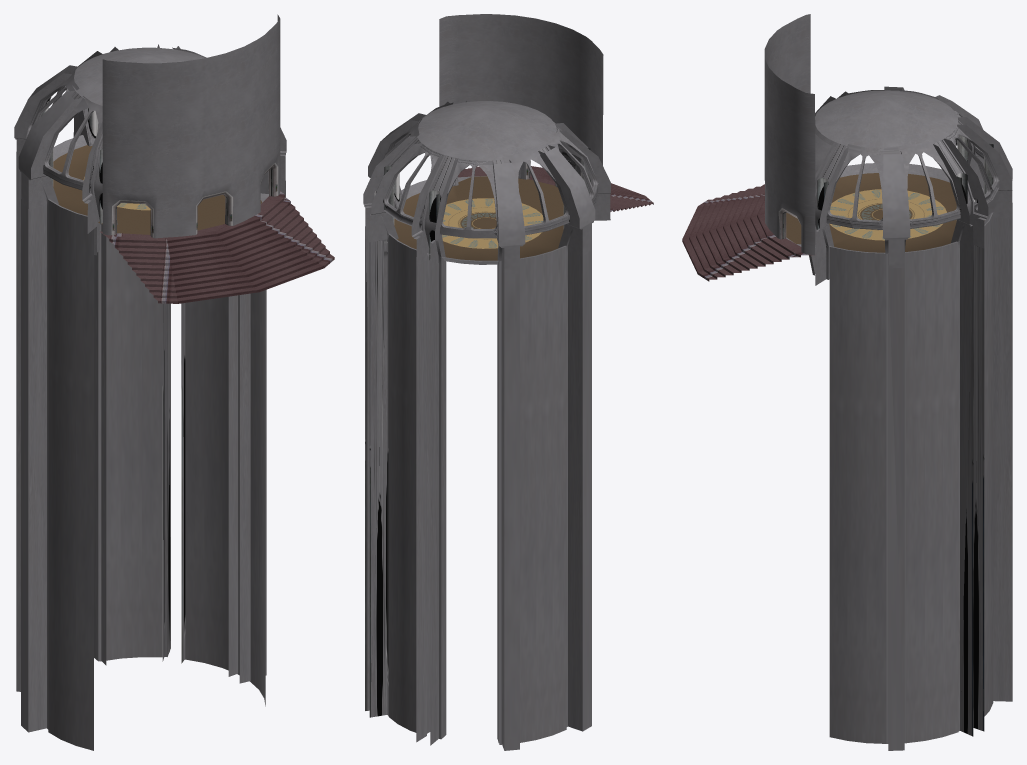
The model's file is Cor1_bldg_Council_Chamber.fbx.
3 views of the same model, side by side, from view 1: azimuth 30°, elevation 25°; view 2: azimuth 150°, elevation 25°; view 3: azimuth 270°, elevation 25° (orthographic). The views are drawn at different scales.
Parts seen in each view (by area): view 1: council_chamber, polymsh_extracted16, polymsh98, polymsh_extracted20, polymsh_extracted18, polymsh_extracted19, polymsh_extracted17, roof, polymsh, polymsh_extracted13, polymsh1, polymsh_extracted21; view 2: council_chamber, polymsh_extracted18, polymsh_extracted16, polymsh_extracted19, polymsh_extracted17, roof, polymsh2, polymsh1, polymsh_extracted13, polymsh98, polymsh3, polymsh_extracted20 (+1 smaller); view 3: council_chamber, polymsh_extracted19, polymsh_extracted18, polymsh_extracted20, polymsh98, roof, polymsh_extracted21, polymsh5, polymsh4, polymsh3, polymsh_extracted17.
Boxes of the visible parts, x1=… form: council_chamber: x1=48, y1=14, x2=280, y2=750; polymsh_extracted16: x1=18, y1=90, x2=82, y2=732; polymsh98: x1=100, y1=191, x2=334, y2=303; polymsh_extracted20: x1=228, y1=290, x2=266, y2=683; polymsh_extracted18: x1=73, y1=47, x2=118, y2=665; polymsh_extracted19: x1=157, y1=44, x2=185, y2=663; polymsh_extracted17: x1=14, y1=65, x2=78, y2=691; roof: x1=72, y1=47, x2=205, y2=105; polymsh: x1=43, y1=96, x2=102, y2=192; polymsh_extracted13: x1=82, y1=121, x2=117, y2=255; polymsh1: x1=25, y1=69, x2=79, y2=139; polymsh_extracted21: x1=260, y1=127, x2=286, y2=197; council_chamber: x1=388, y1=14, x2=603, y2=744; polymsh_extracted18: x1=411, y1=154, x2=458, y2=745; polymsh_extracted16: x1=538, y1=145, x2=595, y2=731; polymsh_extracted19: x1=363, y1=136, x2=422, y2=717; polymsh_extracted17: x1=492, y1=160, x2=525, y2=750; roof: x1=417, y1=101, x2=556, y2=160; polymsh2: x1=440, y1=158, x2=497, y2=238; polymsh1: x1=502, y1=147, x2=569, y2=235; polymsh_extracted13: x1=555, y1=123, x2=610, y2=220; polymsh98: x1=458, y1=166, x2=653, y2=211; polymsh3: x1=383, y1=144, x2=442, y2=228; polymsh_extracted20: x1=368, y1=113, x2=425, y2=209; council_chamber: x1=764, y1=14, x2=993, y2=743; polymsh_extracted19: x1=933, y1=138, x2=988, y2=736; polymsh_extracted18: x1=957, y1=117, x2=1012, y2=701; polymsh_extracted20: x1=883, y1=151, x2=910, y2=750; polymsh98: x1=682, y1=184, x2=815, y2=281; roof: x1=815, y1=90, x2=957, y2=150; polymsh_extracted21: x1=809, y1=142, x2=848, y2=285; polymsh5: x1=826, y1=144, x2=899, y2=229; polymsh4: x1=897, y1=140, x2=961, y2=228; polymsh3: x1=944, y1=126, x2=998, y2=210; polymsh_extracted17: x1=936, y1=95, x2=983, y2=188.
Size of what is drawn, in the model's own units: 3424 by 9613 by 4455.
